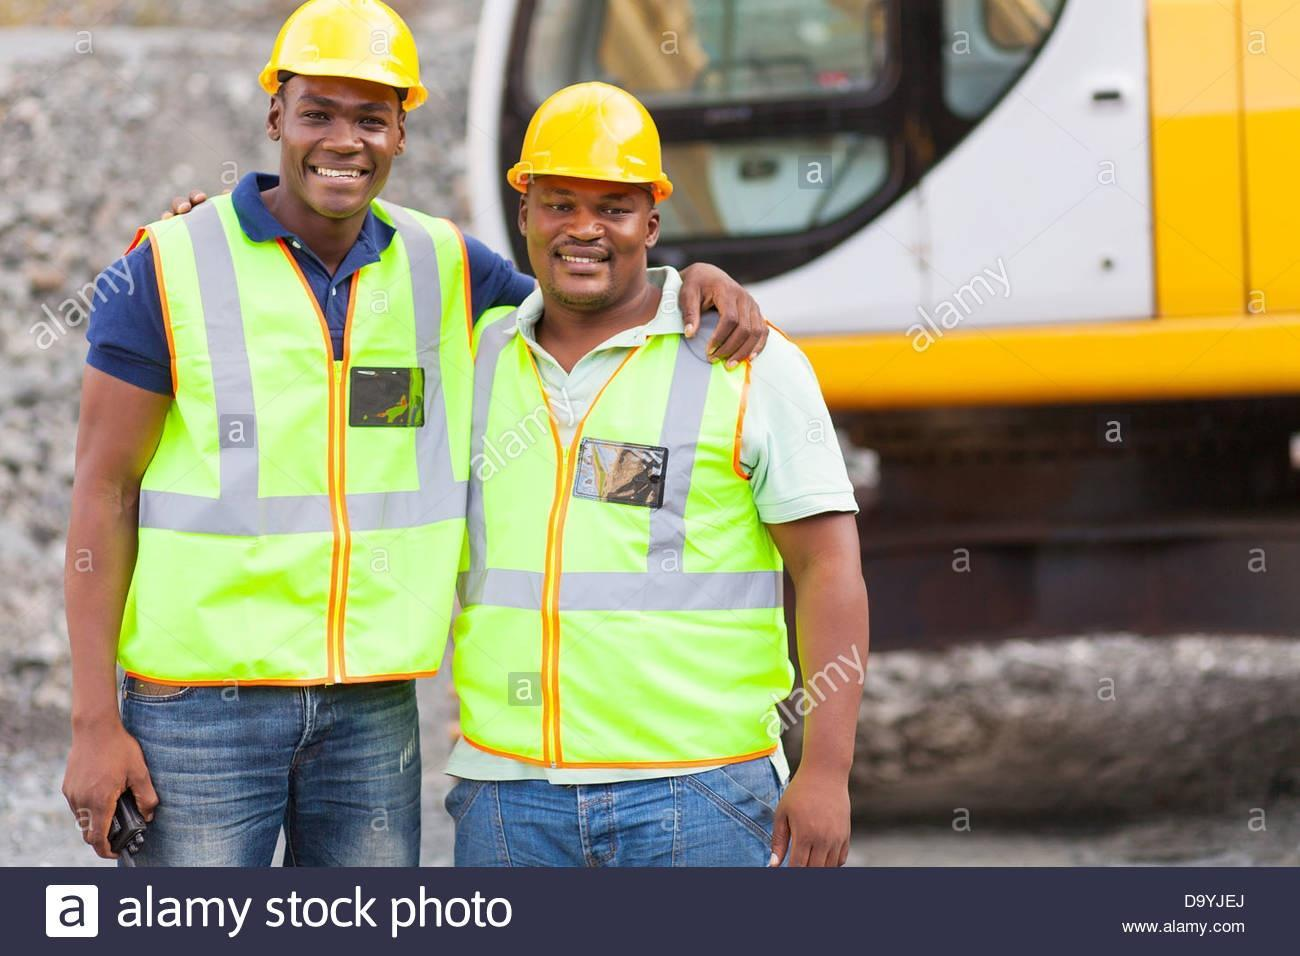helmet: (501, 73, 693, 208), (243, 0, 440, 120)
person: (63, 13, 437, 868), (451, 73, 831, 863)
vest: (121, 182, 467, 686), (468, 279, 795, 805)
